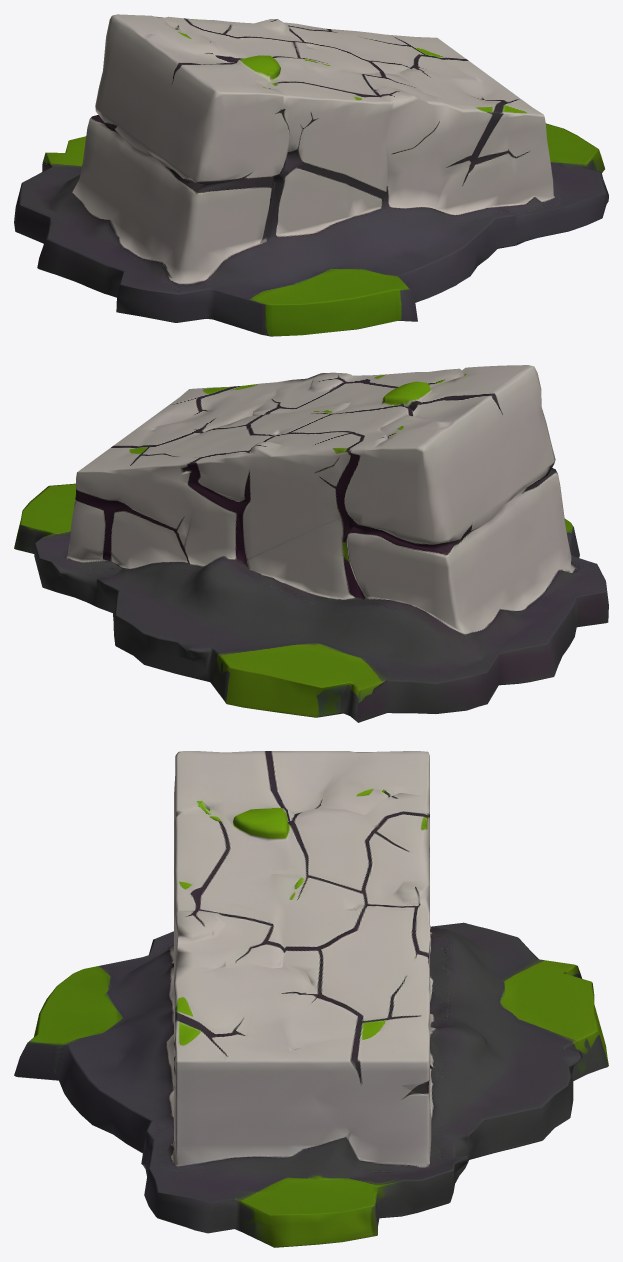
Rendered from grave_tilted_slab.glb.
3 renders of one model, top to bottom at view 1: azimuth 30°, elevation 25°; view 2: azimuth 150°, elevation 25°; view 3: azimuth 270°, elevation 25°, orthographic. The views are drawn at different scales.
Bounding box in the file's own units: 1.91 × 0.7397 × 1.57.
1 material, 1 textured.
